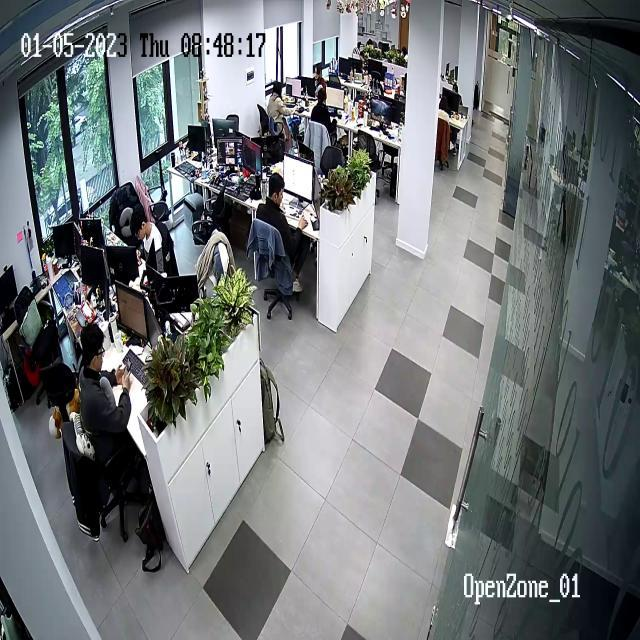person: (77, 323, 166, 558), (256, 172, 313, 294), (130, 204, 177, 282), (266, 82, 291, 139), (310, 88, 331, 144), (310, 63, 327, 102)
